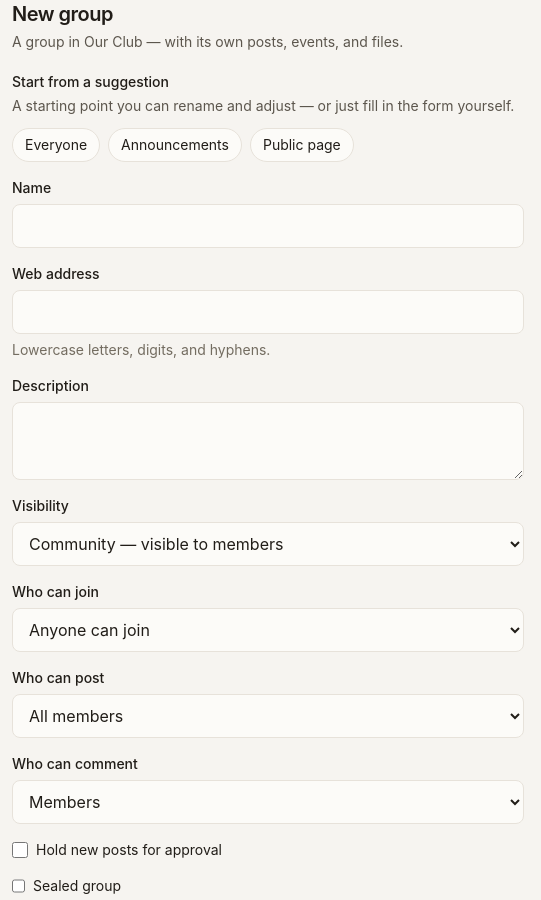
Test case: new group page › surfaces the shared error banner when a create fails without a mappable field
Type "Everyone" into the field with id "group-name". click: (268, 226)
box: x1=12 y1=204 x2=524 y2=248
(page scrolled)
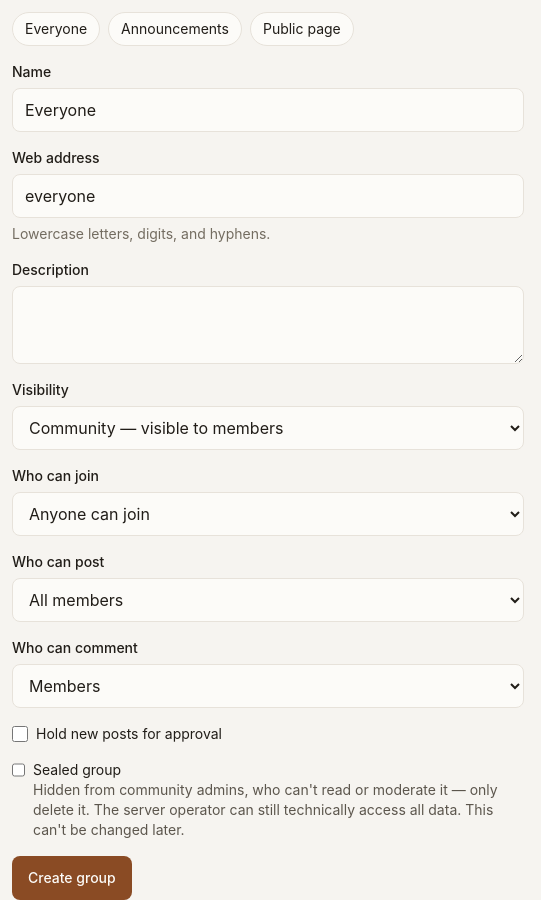
Click the button with id "group-create-submit". click: (72, 878)
box: x1=12 y1=856 x2=132 y2=899
(page scrolled)
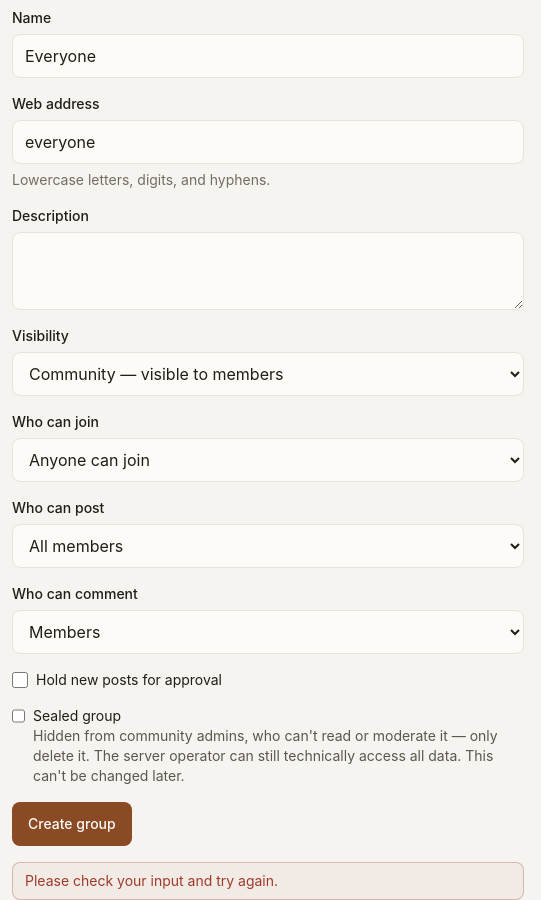
Result: the text "Please check your input and try again." is shown at x1=25 y1=871 x2=278 y2=891
